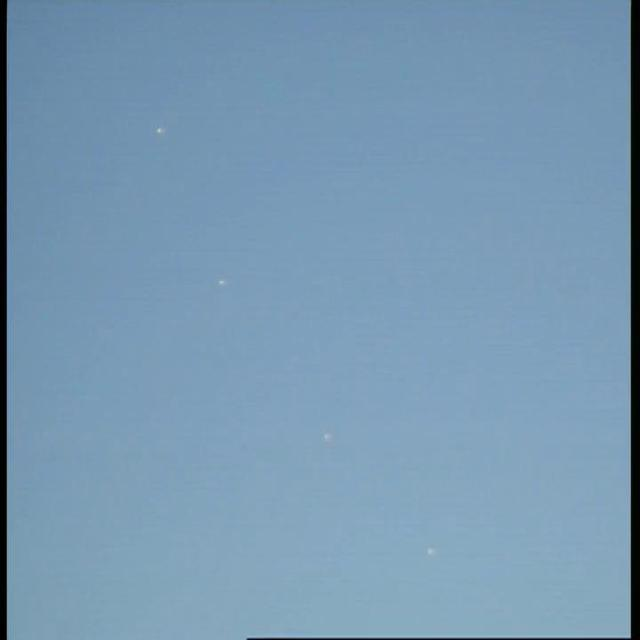drone: (315, 428, 337, 447), (422, 542, 438, 564), (152, 121, 168, 140), (212, 276, 228, 290)
